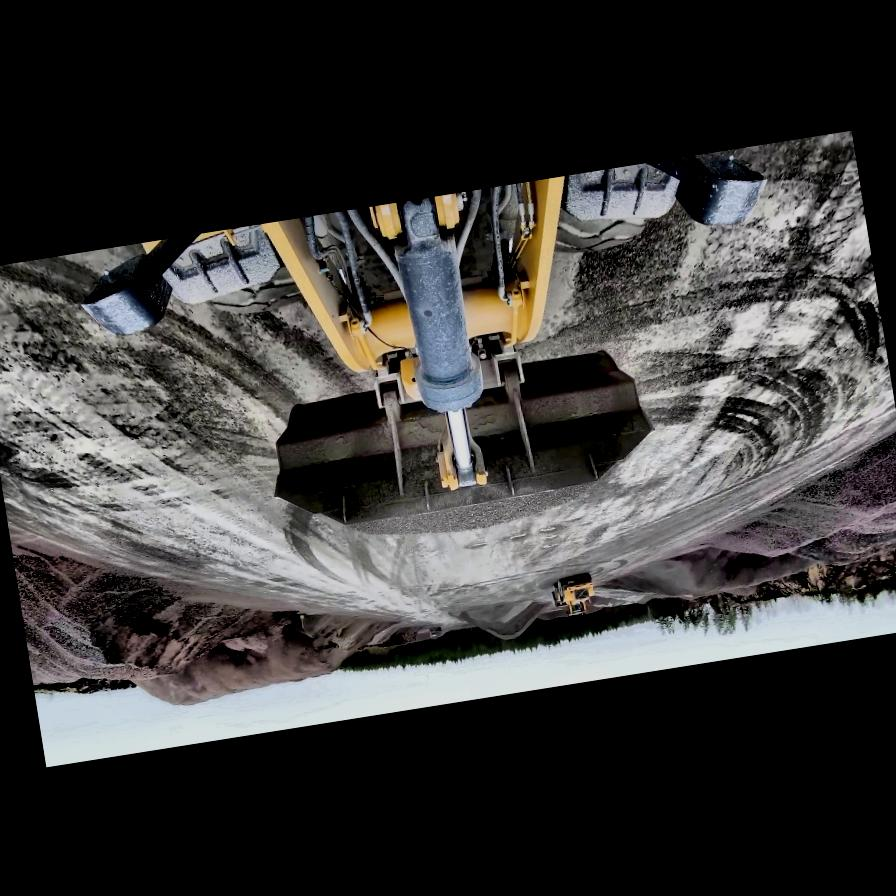anchor: (430, 412, 488, 493)
pile of gravel: (8, 479, 372, 728), (593, 418, 896, 623), (123, 602, 360, 714), (604, 530, 811, 612), (699, 539, 896, 617), (783, 422, 896, 531), (452, 596, 548, 646), (311, 608, 399, 660)
